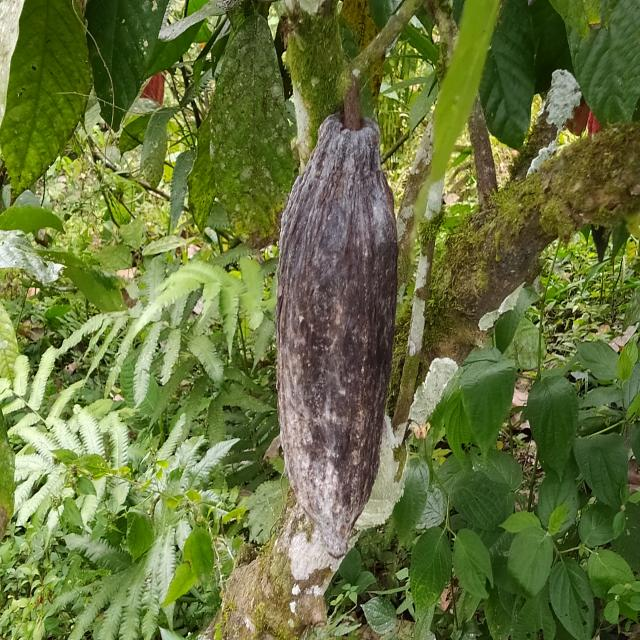Fitoftora: (276, 118, 399, 564)
